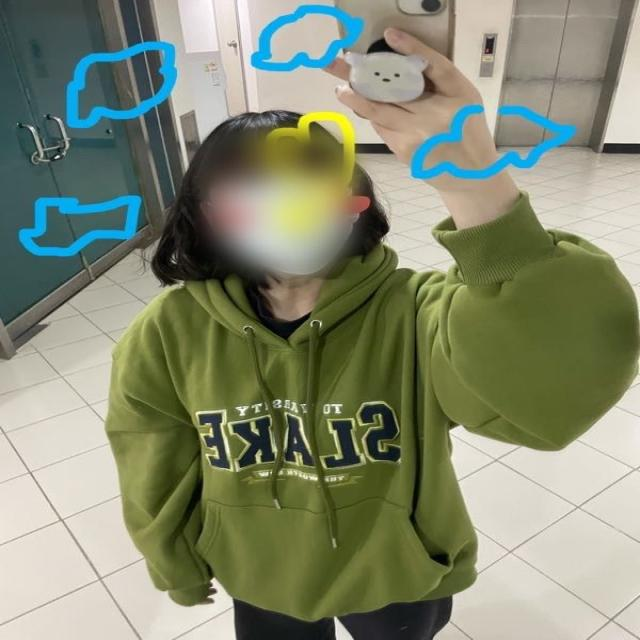hoodies: (109, 188, 640, 624)
